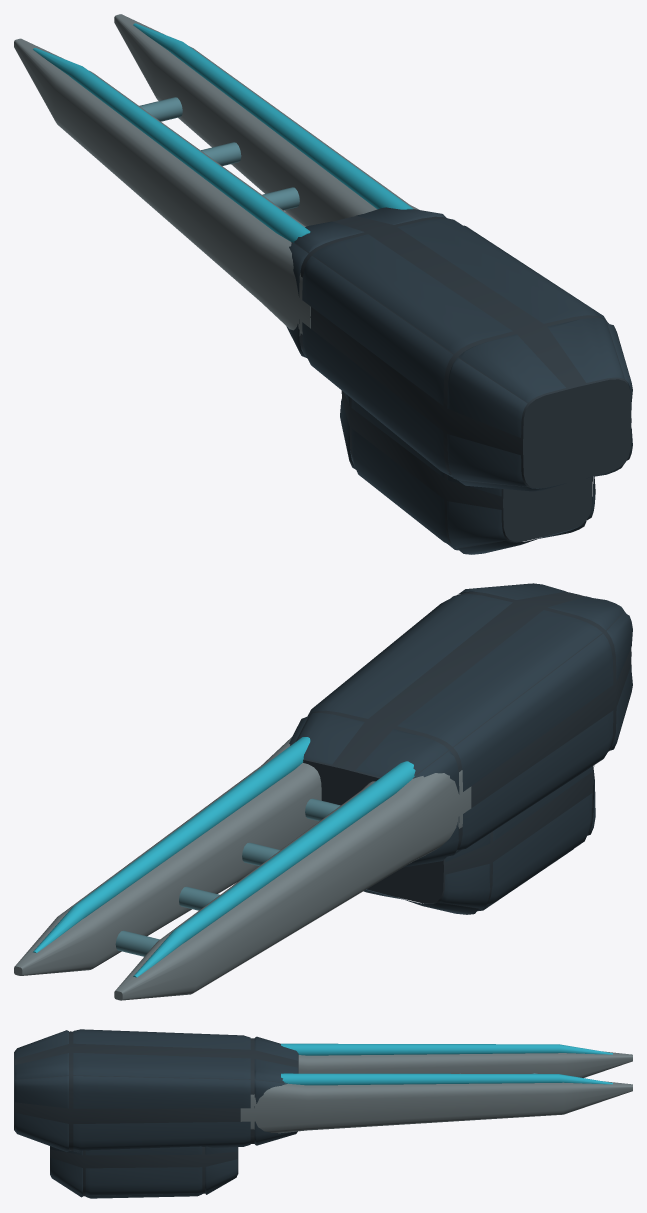
The model's file is tachyon_beam.glb.
The picture shows the model from 3 angles, top to bottom: view 1: azimuth 30°, elevation 25°; view 2: azimuth 150°, elevation 25°; view 3: azimuth 270°, elevation 25°; orthographic projection. The views are drawn at different scales.
Parts seen in each view (by area): view 1: tachyon_beam; view 2: tachyon_beam; view 3: tachyon_beam.
Part boxes in pixels (x1,y1,x2,y2): tachyon_beam: [14, 14, 632, 554]; tachyon_beam: [14, 583, 632, 1000]; tachyon_beam: [14, 1029, 632, 1198].
Size of the model in its own units: 0.5416 by 0.6717 by 2.76.
